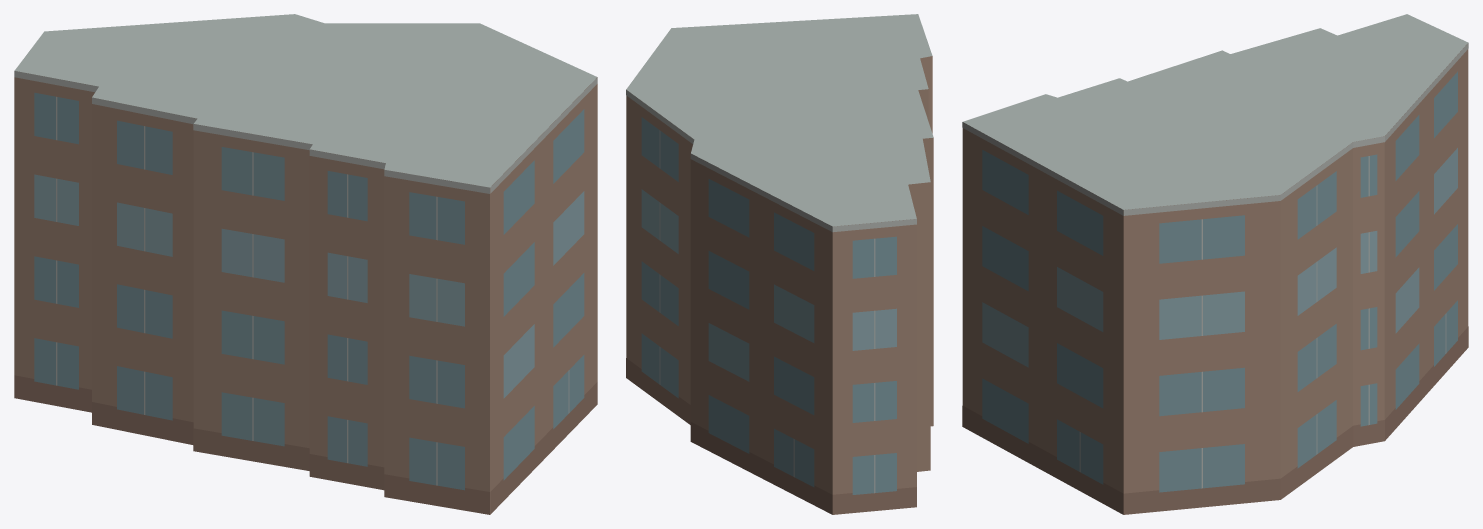
File: survey-upis-32463712.glb
The picture shows the model from 3 angles, left to right: view 1: azimuth 30°, elevation 25°; view 2: azimuth 150°, elevation 25°; view 3: azimuth 270°, elevation 25°; orthographic projection. The views are drawn at different scales.
Visible parts, largest first — view 1: survey-upis-32463712.tmp; view 2: survey-upis-32463712.tmp; view 3: survey-upis-32463712.tmp.
Part boxes in pixels (x1=…): survey-upis-32463712.tmp: x1=14, y1=14, x2=597, y2=514; survey-upis-32463712.tmp: x1=626, y1=14, x2=933, y2=514; survey-upis-32463712.tmp: x1=962, y1=14, x2=1468, y2=514.
Size of the model in its own units: 17.02 by 12.35 by 18.58.
